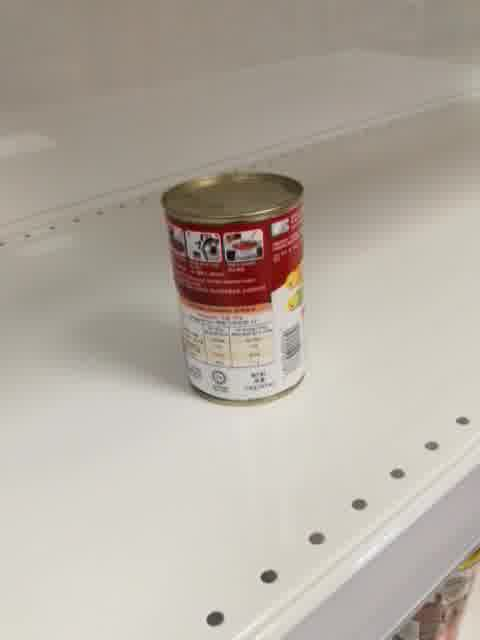tomatosoup: (160, 170, 306, 409)
